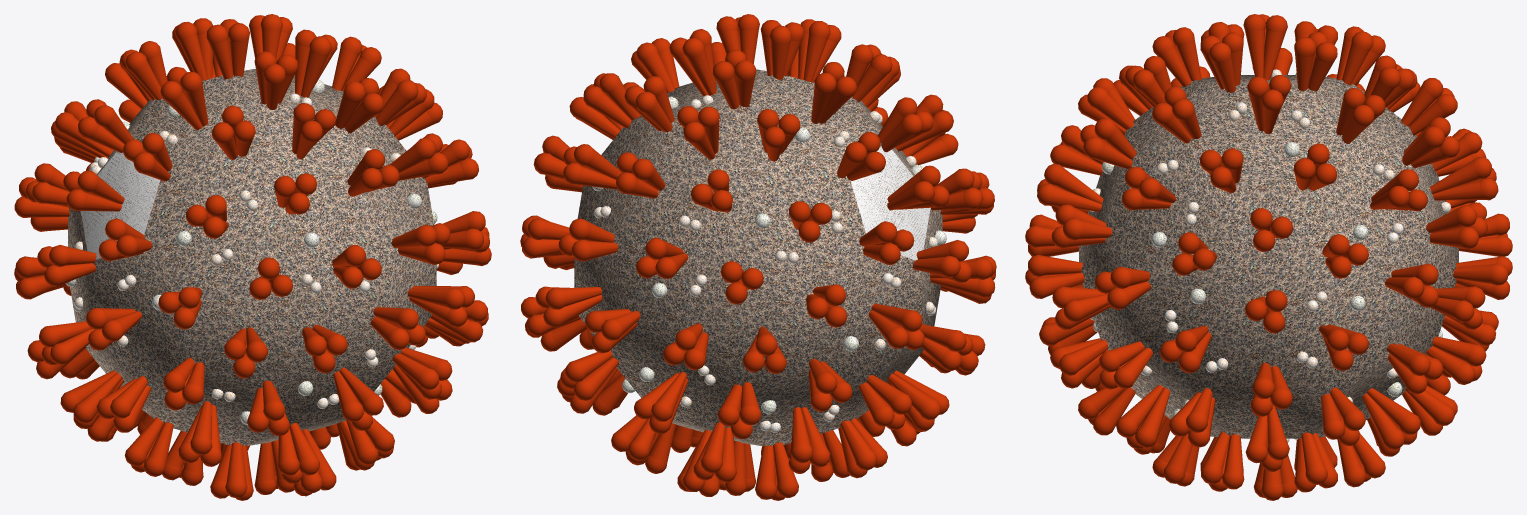
Rendered from coronavirus.dae.
3 views of the same model, side by side, from view 1: azimuth 30°, elevation 25°; view 2: azimuth 150°, elevation 25°; view 3: azimuth 270°, elevation 25° (orthographic).
Parts seen in each view (by area): view 1: group_1 (×2), Component_14 (×92); view 2: group_1 (×2), Component_14 (×89); view 3: group_1, Component_14 (×92).
Part boxes in pixels (x1,y1,x2,y2): group_1 (×2): (68,68,436,445); Component_14 (×92): (14,14,491,498); group_1 (×2): (574,69,942,446); Component_14 (×89): (523,14,995,499); group_1: (1079,75,1458,438); Component_14 (×92): (1025,14,1512,500).
Bounding box in the file's own units: 205 × 205 × 205.
